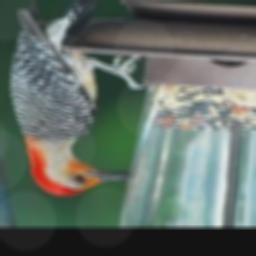Woodpecker: (4, 0, 145, 196)
